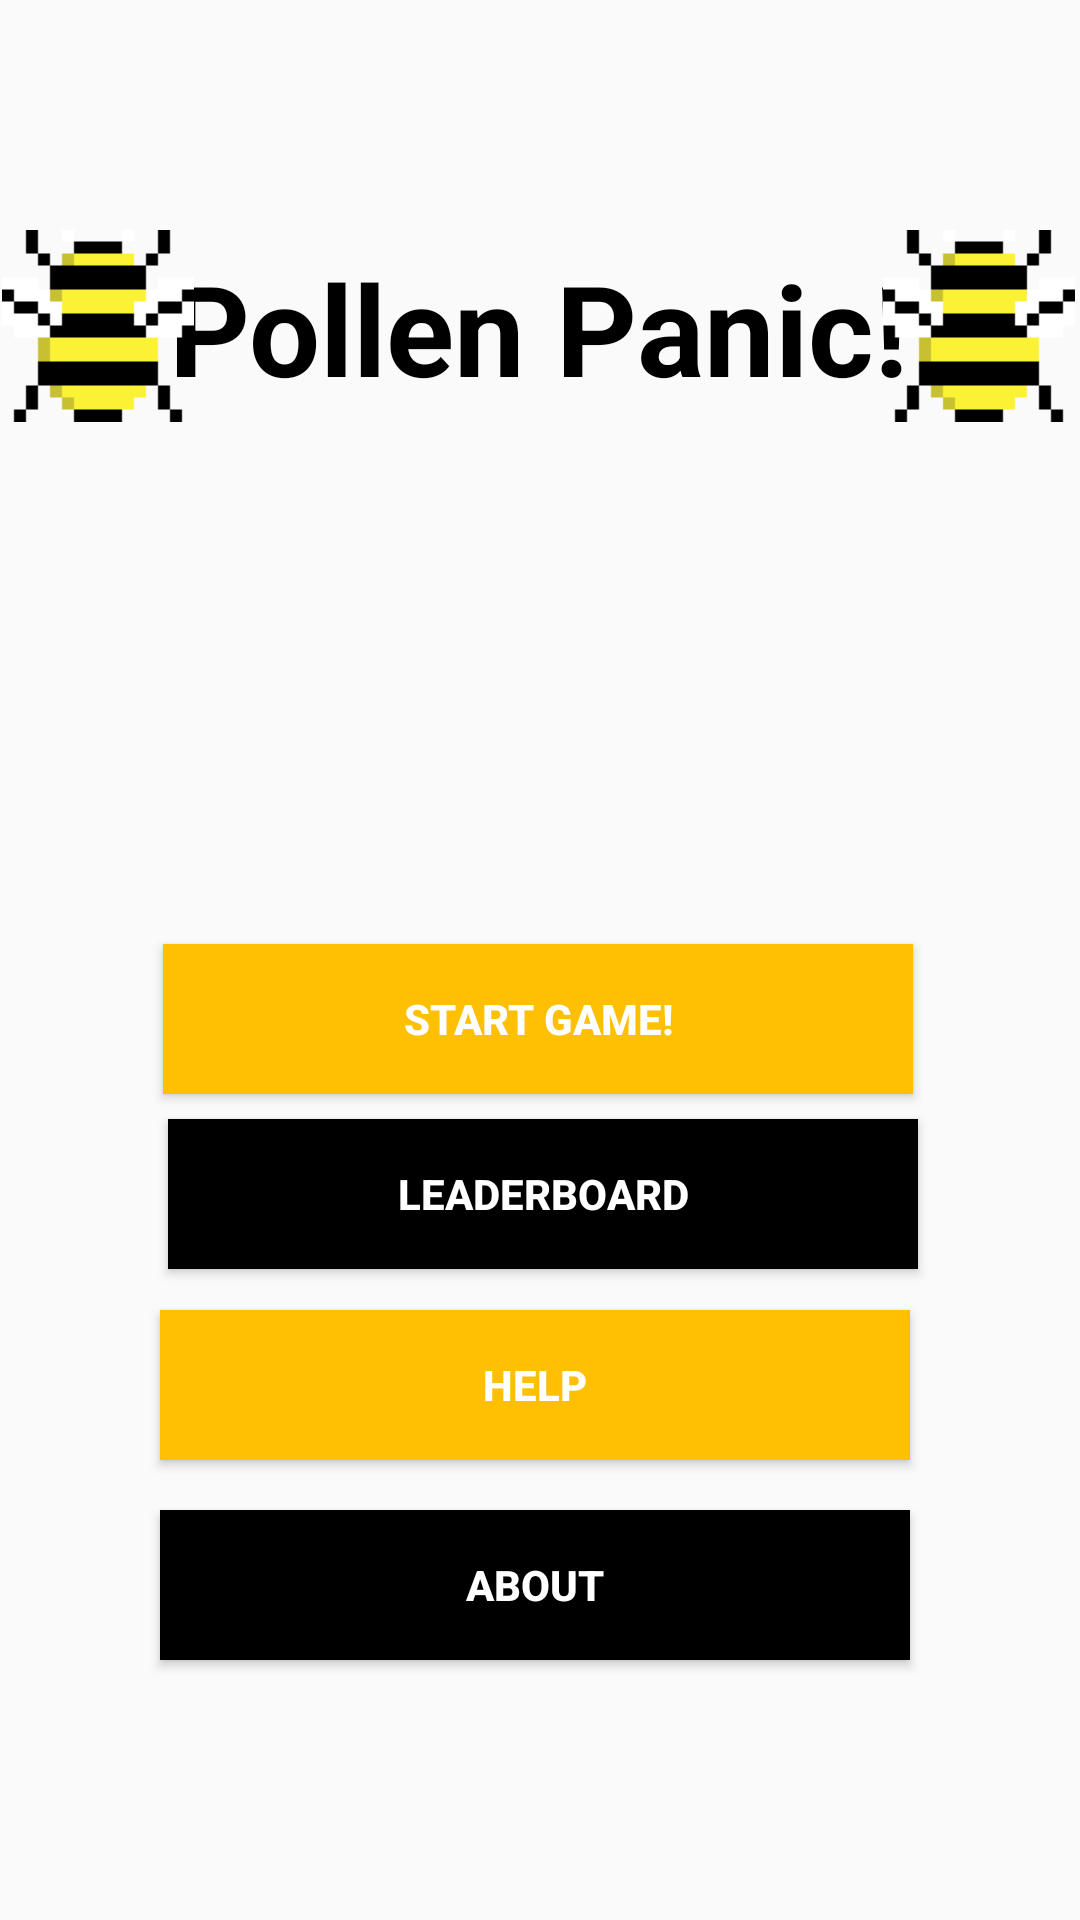

Icon bounding boxes for this 1080×1920 phone screenshot, format (x1=x1, y1=y1, x2=x2, y2=y2):
bee: (x1=2, y1=230, x2=194, y2=422), (x1=883, y1=230, x2=1075, y2=422)
